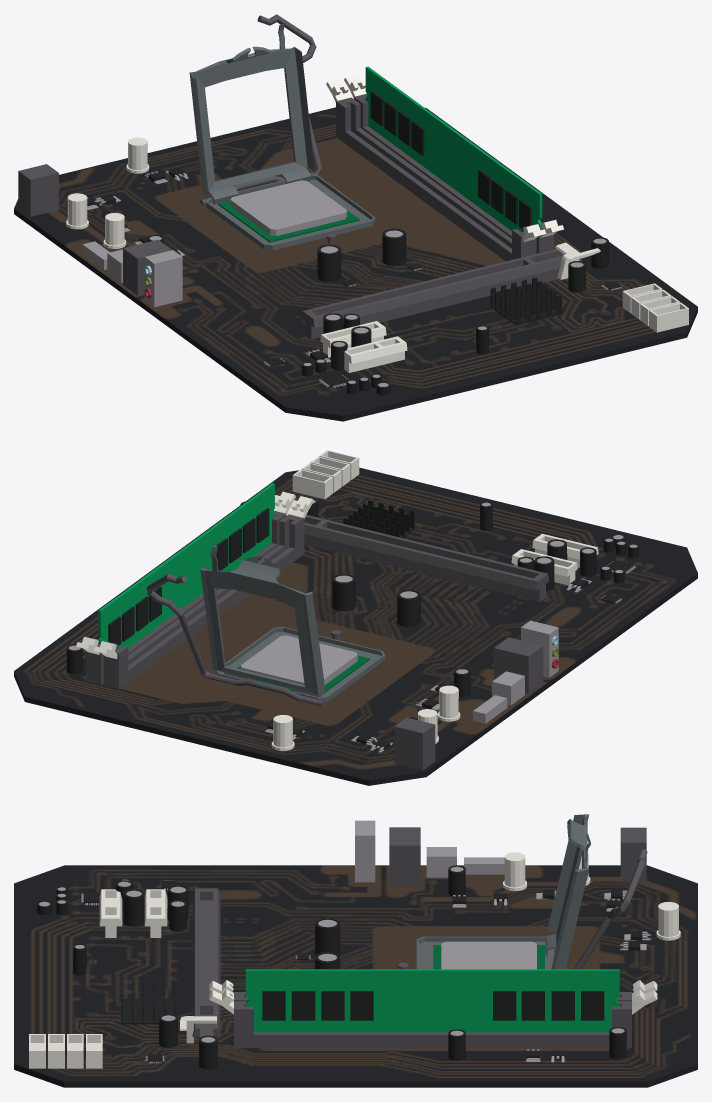
The model's file is Complex computing circuit.fbx.
3 renders of one model, top to bottom at view 1: azimuth 30°, elevation 25°; view 2: azimuth 150°, elevation 25°; view 3: azimuth 270°, elevation 25°, orthographic. The views are drawn at different scales.
Visible parts, largest first — view 1: complex_computing_circuit; view 2: complex_computing_circuit; view 3: complex_computing_circuit.
Part boxes in pixels (x1,y1,x2,y2): complex_computing_circuit: (14, 14, 697, 421); complex_computing_circuit: (14, 450, 697, 785); complex_computing_circuit: (14, 814, 697, 1087).
Bounding box in the file's own units: 1.37 × 0.4854 × 1.84.
